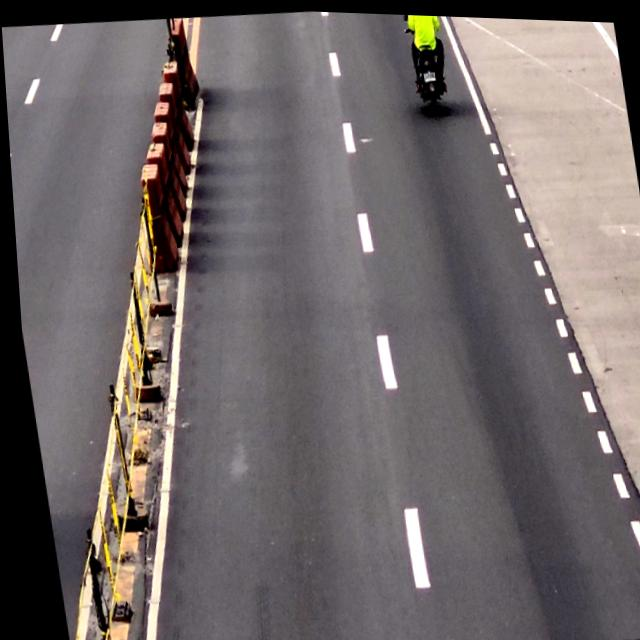Motorcycle: (405, 12, 453, 112)
